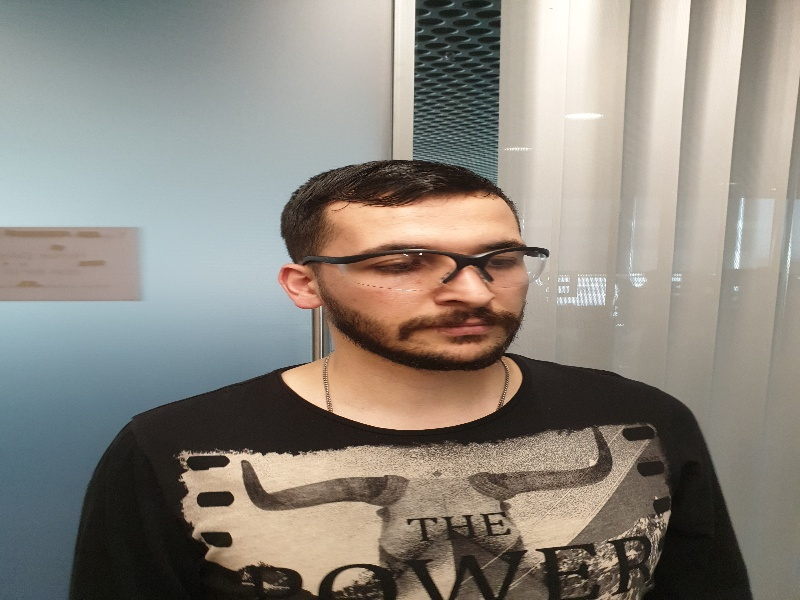Gozluk: (284, 246, 554, 290)
